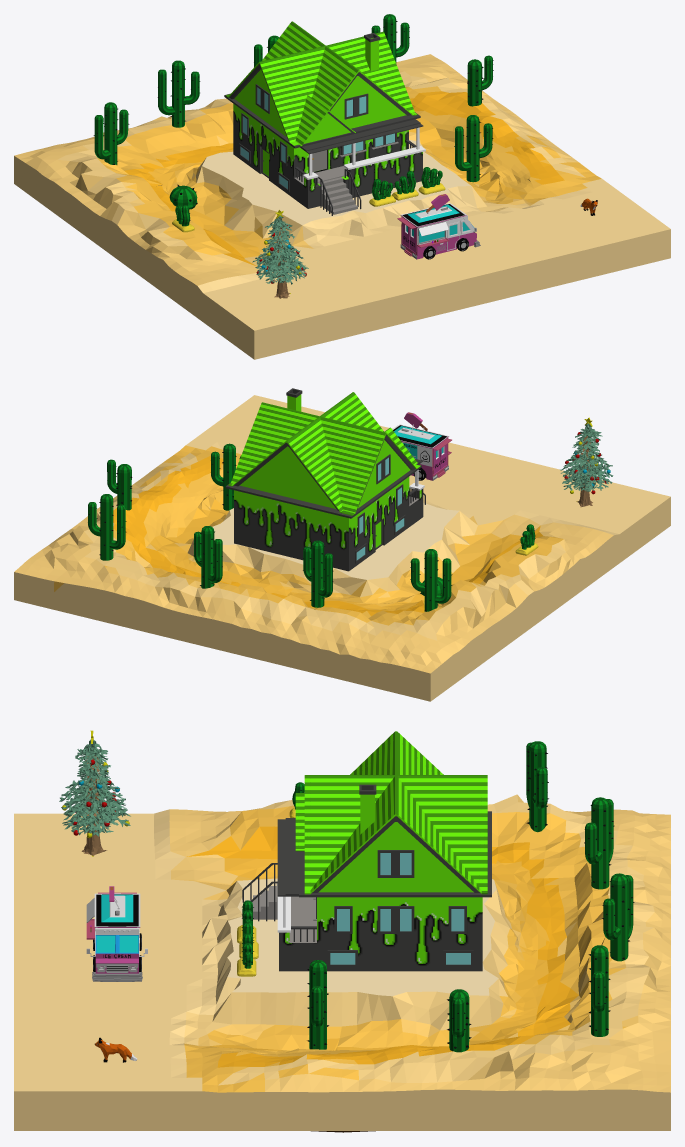
3 views of the same model, one above another, from view 1: azimuth 30°, elevation 25°; view 2: azimuth 150°, elevation 25°; view 3: azimuth 270°, elevation 25° (orthographic). The views are drawn at different scales.
Visible parts, largest first — view 1: Cube.001, Cube.754, VEHICLES_ICE_CREAM_TRUCK, OBJRANDOM_CHRISTMAS_TREE, Cylinder.037, Cylinder.044, Cylinder.045, Cylinder.038, Cylinder.042, Cylinder.039, Cylinder.041, Sphere.023 (+1 smaller); view 2: Cube.001, Cube.754, OBJRANDOM_CHRISTMAS_TREE, VEHICLES_ICE_CREAM_TRUCK, Cylinder.042, Cylinder.045, Cylinder.044, Cylinder.043, Cylinder.037, Cylinder.038; view 3: Cube.001, Cube.754, VEHICLES_ICE_CREAM_TRUCK, OBJRANDOM_CHRISTMAS_TREE, Cylinder.043, Cylinder.044, Cylinder.045, Cylinder.042, Cylinder.037, Cylinder.038, Cylinder.041.
Boxes of the visible parts, x1=… form: Cube.001: x1=14, y1=54, x2=670, y2=359; Cube.754: x1=224, y1=21, x2=425, y2=215; VEHICLES_ICE_CREAM_TRUCK: x1=397, y1=194, x2=480, y2=259; OBJRANDOM_CHRISTMAS_TREE: x1=252, y1=210, x2=308, y2=298; Cylinder.037: x1=454, y1=115, x2=493, y2=182; Cylinder.044: x1=157, y1=60, x2=200, y2=127; Cylinder.045: x1=93, y1=102, x2=129, y2=164; Cylinder.038: x1=467, y1=55, x2=493, y2=106; Cylinder.042: x1=371, y1=14, x2=409, y2=62; Cylinder.039: x1=369, y1=179, x2=395, y2=206; Cylinder.041: x1=418, y1=167, x2=445, y2=194; Sphere.023: x1=169, y1=184, x2=197, y2=209; Cube.001: x1=14, y1=395, x2=670, y2=701; Cube.754: x1=225, y1=388, x2=425, y2=571; OBJRANDOM_CHRISTMAS_TREE: x1=560, y1=417, x2=613, y2=507; VEHICLES_ICE_CREAM_TRUCK: x1=392, y1=412, x2=451, y2=480; Cylinder.042: x1=88, y1=494, x2=126, y2=560; Cylinder.045: x1=410, y1=549, x2=452, y2=611; Cylinder.044: x1=303, y1=540, x2=333, y2=607; Cylinder.043: x1=193, y1=526, x2=222, y2=588; Cylinder.037: x1=211, y1=443, x2=241, y2=510; Cylinder.038: x1=107, y1=459, x2=132, y2=510; Cube.001: x1=14, y1=794, x2=670, y2=1130; Cube.754: x1=242, y1=731, x2=491, y2=971; VEHICLES_ICE_CREAM_TRUCK: x1=86, y1=886, x2=147, y2=981; OBJRANDOM_CHRISTMAS_TREE: x1=59, y1=730, x2=130, y2=856; Cylinder.043: x1=602, y1=873, x2=634, y2=961; Cylinder.044: x1=584, y1=797, x2=614, y2=889; Cylinder.045: x1=526, y1=741, x2=548, y2=832; Cylinder.042: x1=588, y1=945, x2=610, y2=1036; Cylinder.037: x1=307, y1=960, x2=328, y2=1049; Cylinder.038: x1=447, y1=989, x2=471, y2=1052; Cylinder.041: x1=237, y1=933, x2=256, y2=976.
Bounding box in the file's own units: 4002 × 1693 × 4001.
42 materials, 3 textured.
